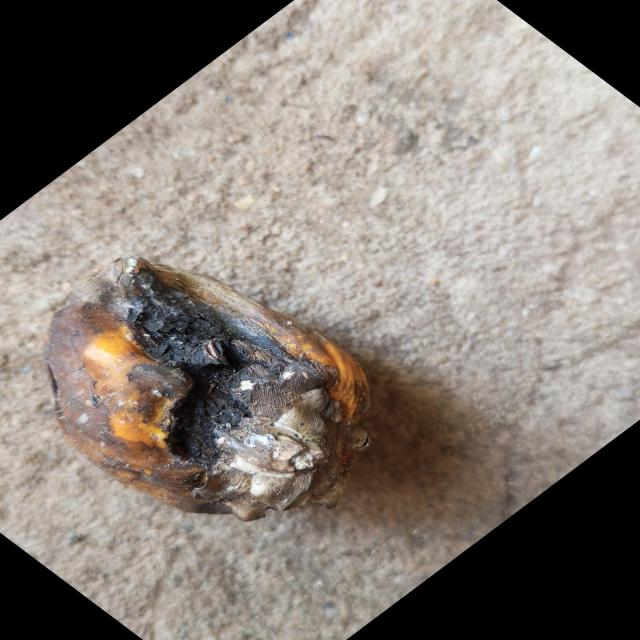damaged: (44, 257, 383, 525)
